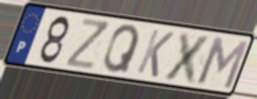8: (39, 15, 71, 64)
K: (134, 27, 177, 80)
M: (195, 34, 251, 92)
Q: (101, 23, 142, 75)
X: (160, 30, 215, 87)
Z: (64, 17, 112, 72)
